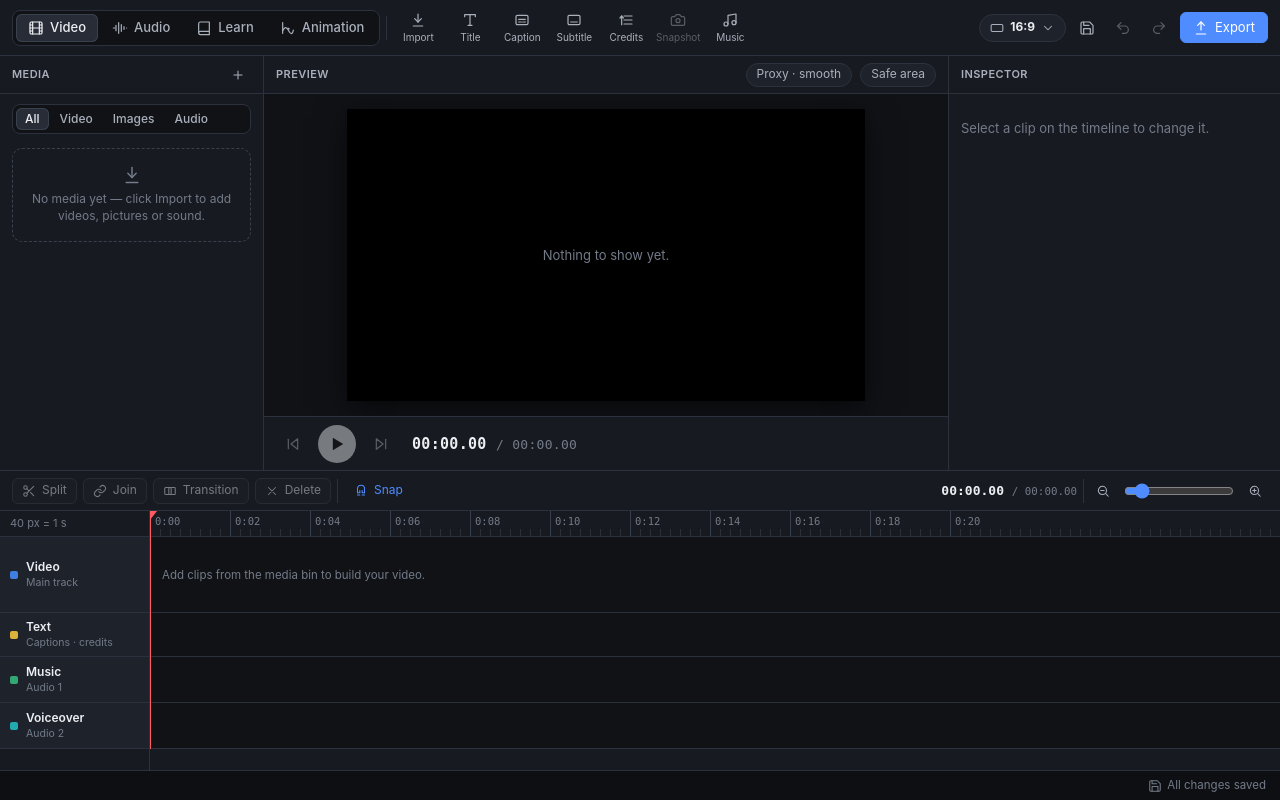
Test: Audio mode layout › shows the audio toolbar and asks for a sound first
Click the 1st button "Audio".
click(141, 28)  # box [100, 14, 182, 42]
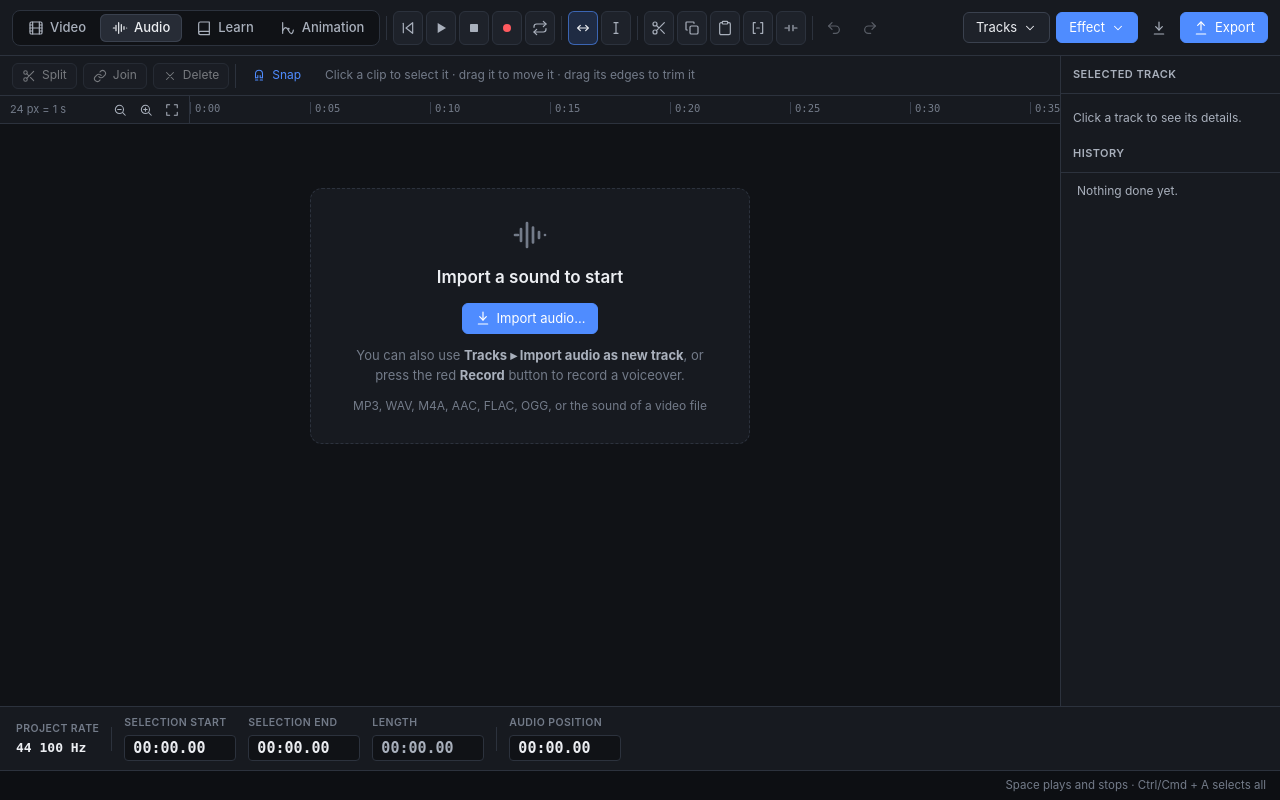
Check: the button named "Play" is shown, box [426, 10, 456, 44]
Check: the button named "Stop" is shown, box [459, 10, 489, 44]
Check: the button named "Clip tool" is shown, box [568, 10, 598, 44]
